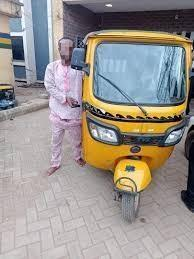keke: (75, 28, 193, 220)
